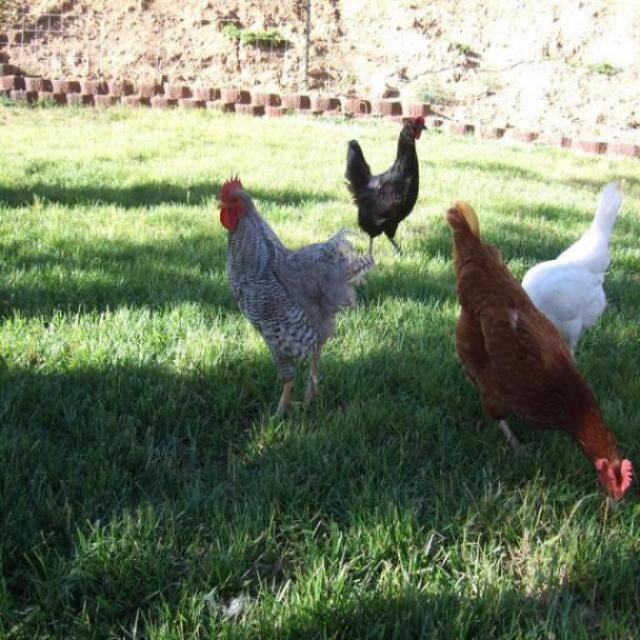Chicken: (436, 193, 635, 510), (218, 171, 375, 420), (522, 184, 624, 359), (342, 117, 427, 258)
